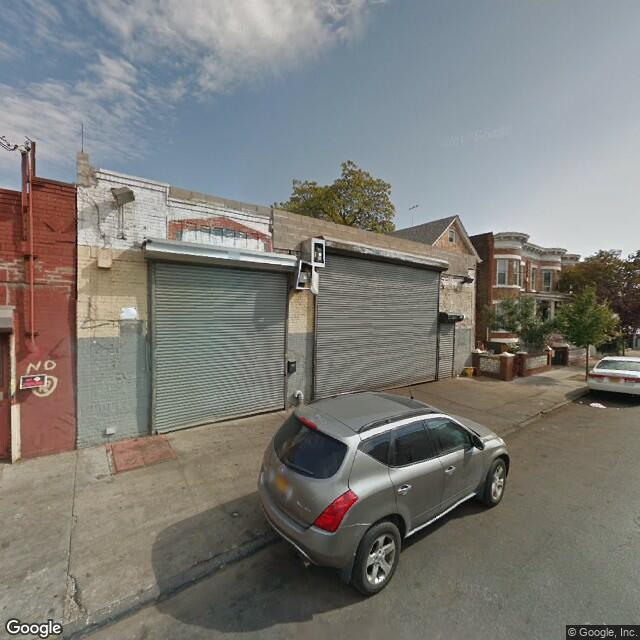litter: (589, 399, 602, 411), (613, 403, 622, 414), (575, 398, 584, 404)
